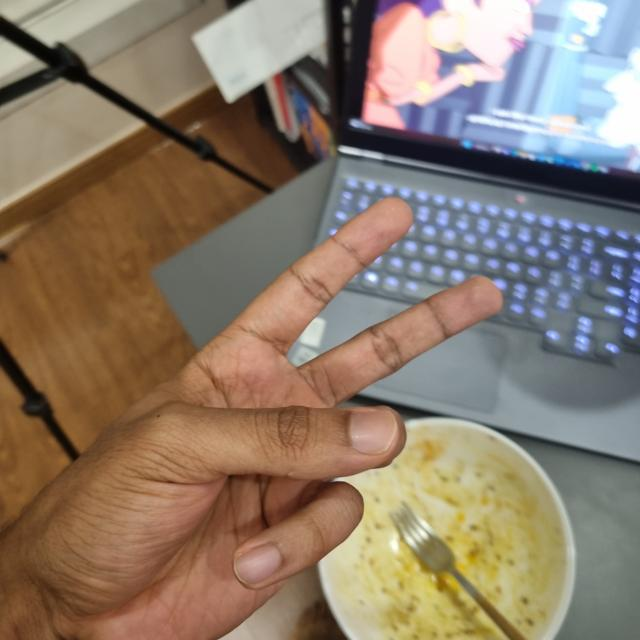Scissors: (6, 201, 504, 638)
